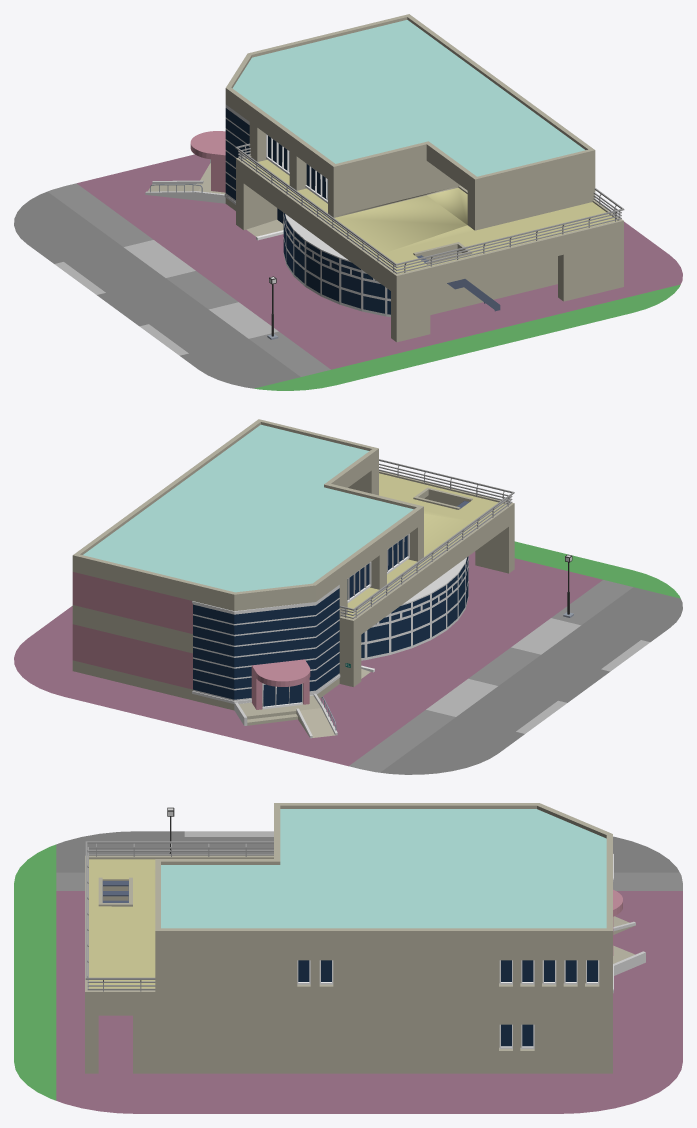
File: EnvCafeteria.fbx
The picture shows the model from 3 angles, top to bottom: view 1: azimuth 30°, elevation 25°; view 2: azimuth 150°, elevation 25°; view 3: azimuth 270°, elevation 25°; orthographic projection. The views are drawn at different scales.
Visible parts, largest first — view 1: Building_M, GroundRoad; view 2: Building_M, GroundRoad; view 3: Building_M, GroundRoad.
Part boxes in pixels (bbox=[...]): Building_M: bbox=[145, 14, 624, 342]; GroundRoad: bbox=[14, 154, 682, 390]; Building_M: bbox=[72, 419, 514, 738]; GroundRoad: bbox=[14, 541, 682, 774]; Building_M: bbox=[85, 803, 645, 1073]; GroundRoad: bbox=[14, 831, 682, 1113].
Bounding box in the file's own units: 190 × 44.68 × 190.
